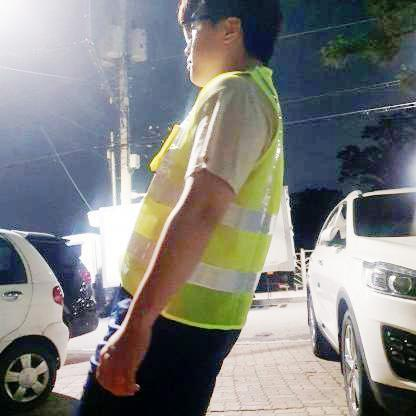no-helmet: (172, 0, 281, 53)
vest: (106, 56, 292, 336)
